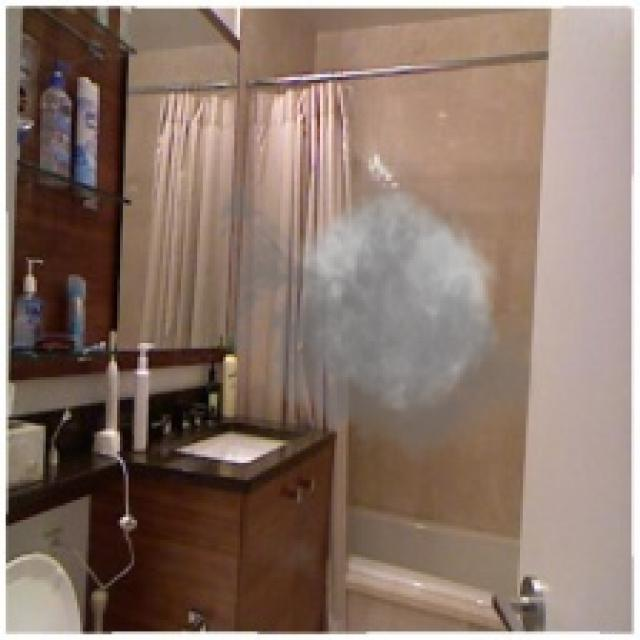smoke: (206, 126, 548, 477)
